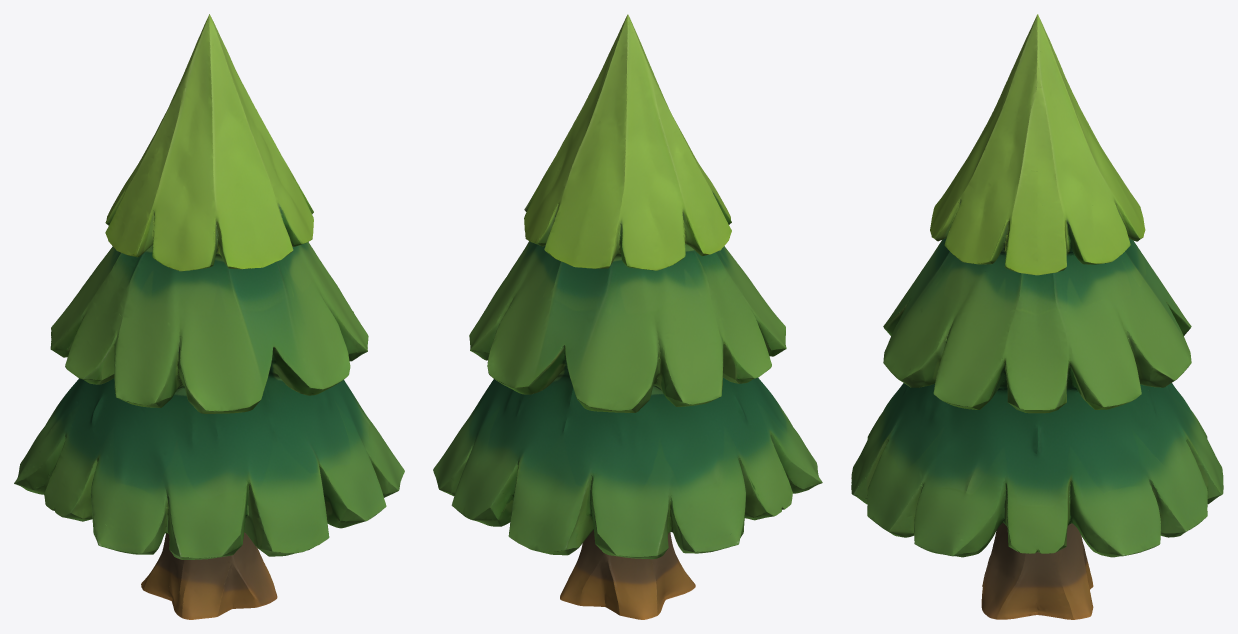
Rendered from base_basic_pbr.fbx.
The picture shows the model from 3 angles, left to right: view 1: azimuth 30°, elevation 25°; view 2: azimuth 150°, elevation 25°; view 3: azimuth 270°, elevation 25°; orthographic projection.
Visible parts, largest first — view 1: geometry_0; view 2: geometry_0; view 3: geometry_0.
Boxes of the visible parts, x1,y1,x2,y2 form: geometry_0: [14, 14, 404, 619]; geometry_0: [433, 14, 822, 619]; geometry_0: [851, 14, 1223, 619].
Bounding box in the file's own units: 107 × 190 × 110.
1 material, 1 textured.
